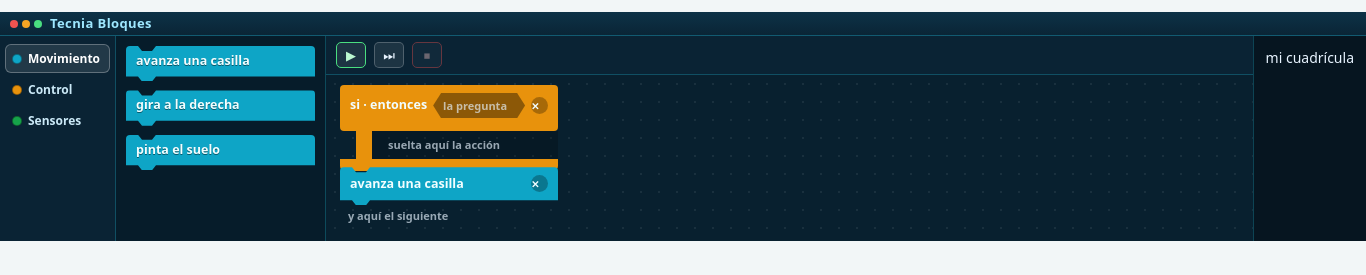
Scenario: la ventana › sin arrastre: tocar la pieza y tocar el hueco; y el bloque que corre se ilumina
La segunda vía de encaje, la que funciona con dedo y con teclado.
Click the button "Sensores" at (58, 121), box [5,106,110,136]
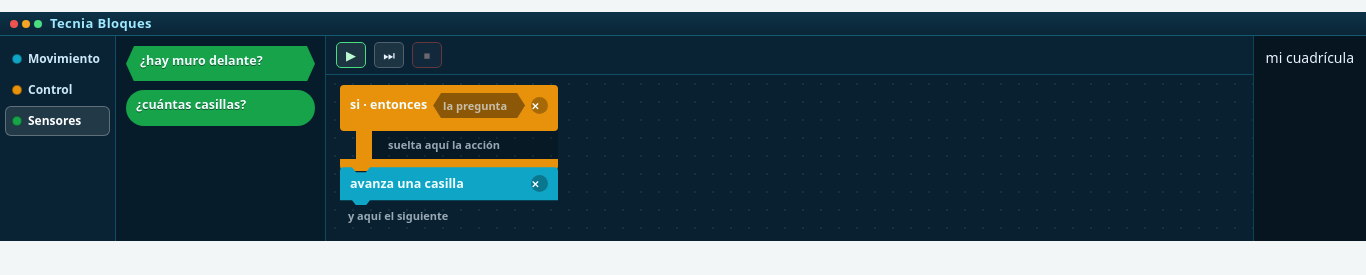
Click the button "¿hay muro delante?" at (220, 64), box [126,46,315,81]
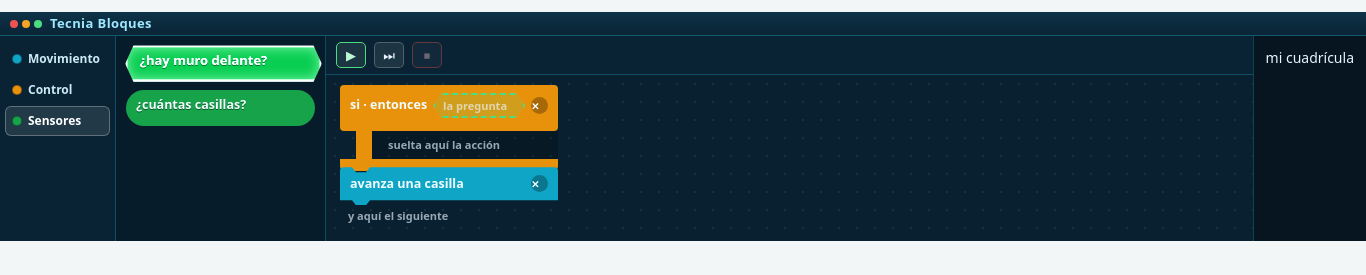
Click the button "la pregunta" at (475, 106), box [435,95,515,116]
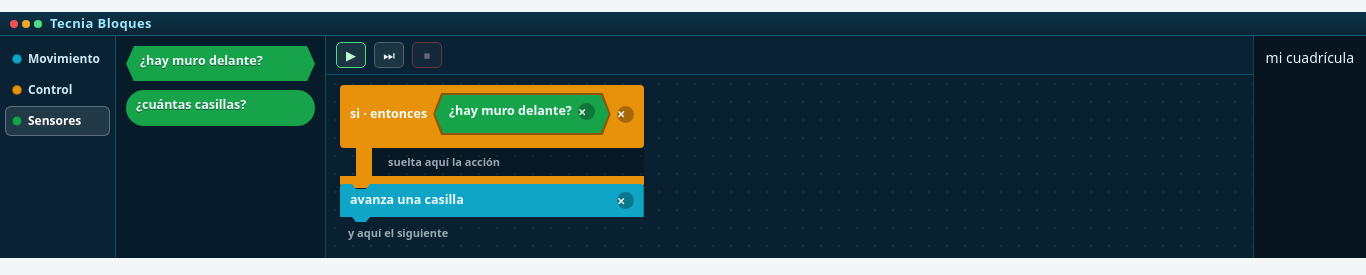
Result: the 2nd button "¿hay muro delante?" is shown at [449,104,572,119]
Un paso: se ilumina el `si` y nadie más.
Click the button named "Un bloque" at (389, 55), box [374,42,404,68]
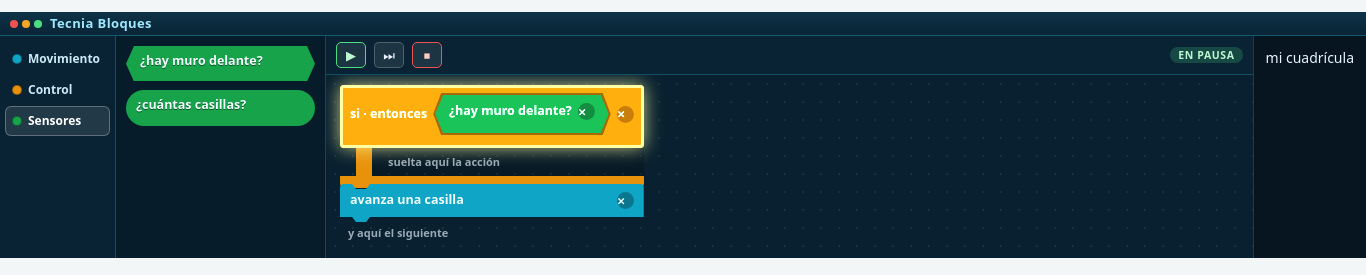
Y la ✕ devuelve el bloque a la paleta.
Click the button named "Quitar avanza una casilla" at (625, 200), box [617,192,634,209]
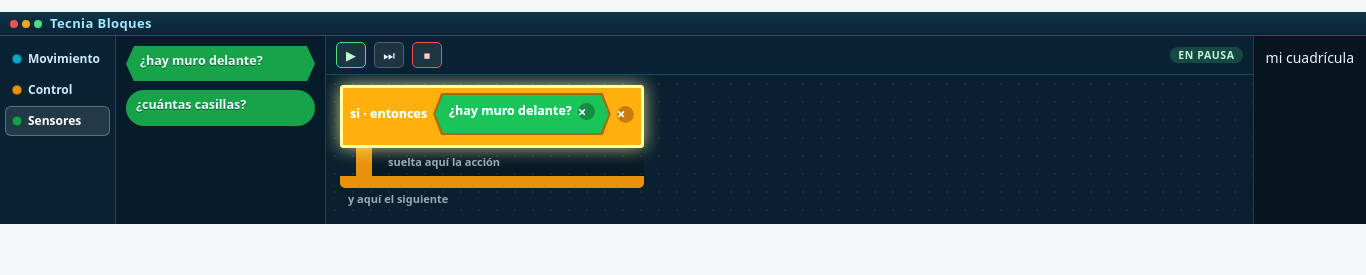
Result: the button "avanza una casilla" is gone
